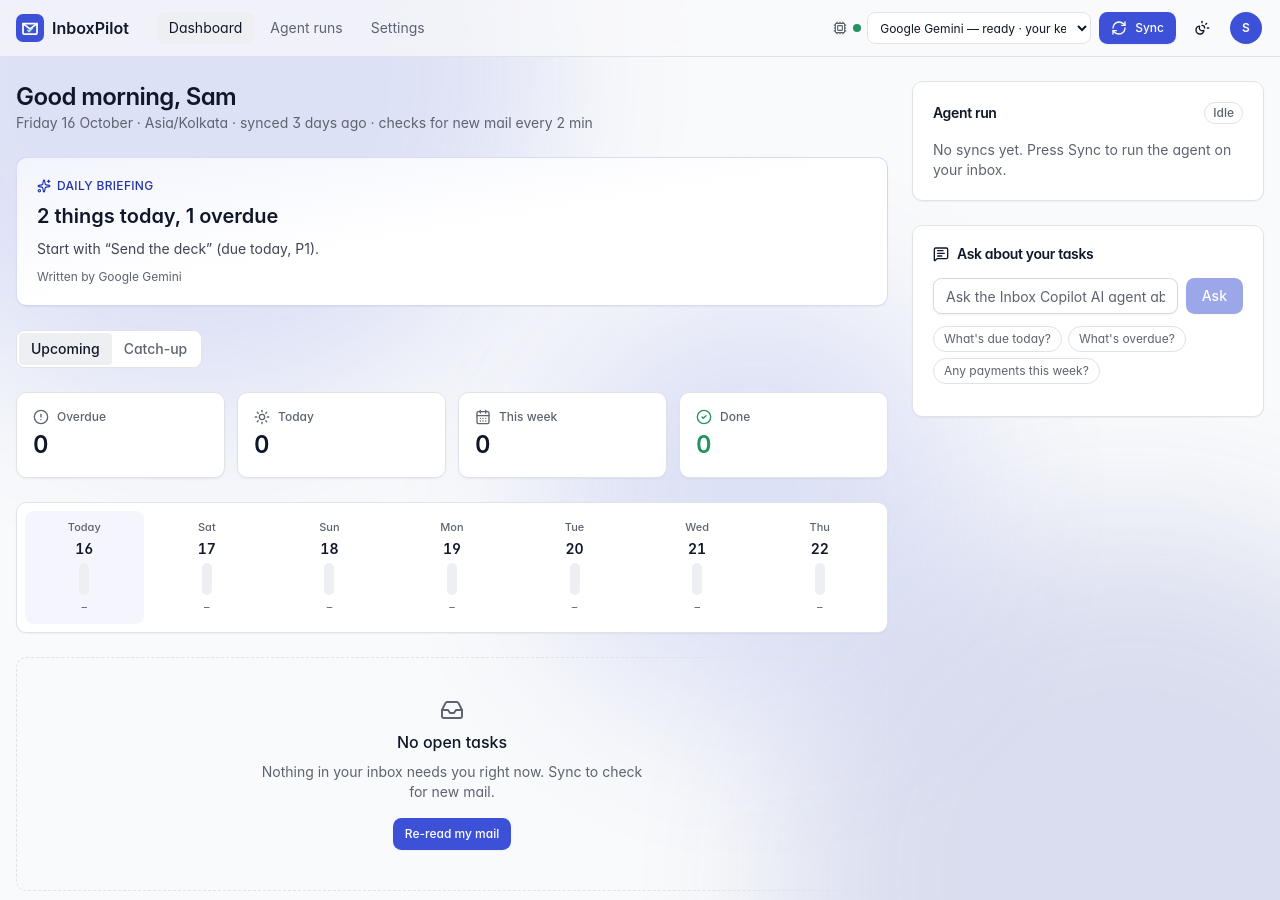
Test: daily briefing: written by the selected model › switching the model rewrites the briefing, and it keeps saying who wrote it
The width and height of the screenshot is (1280, 900).
expect the text "Written by Google Gemini" is shown: met, box 37,269 -> 182,284
Select "OpenRouter — ready · your key" in the dropdown named "AI model" at (979, 28), box 867,12 -> 1091,44
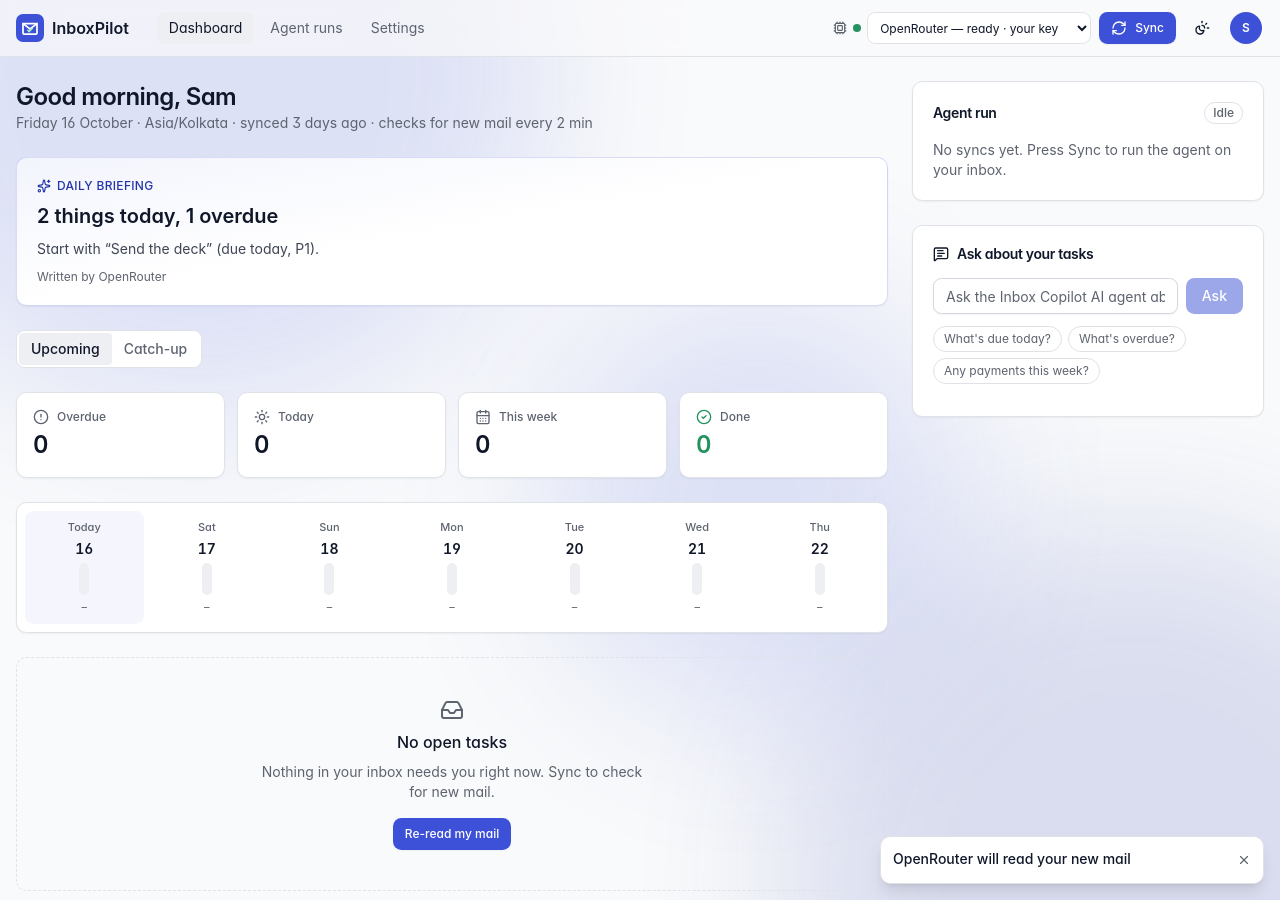
expect the text "Written by OpenRouter" is shown: met, box 37,269 -> 166,284
expect the text "Written by Google Gemini" is gone: met
Select "Rules only (no AI)" in the dropdown named "AI model" at (979, 28), box 867,12 -> 1091,44
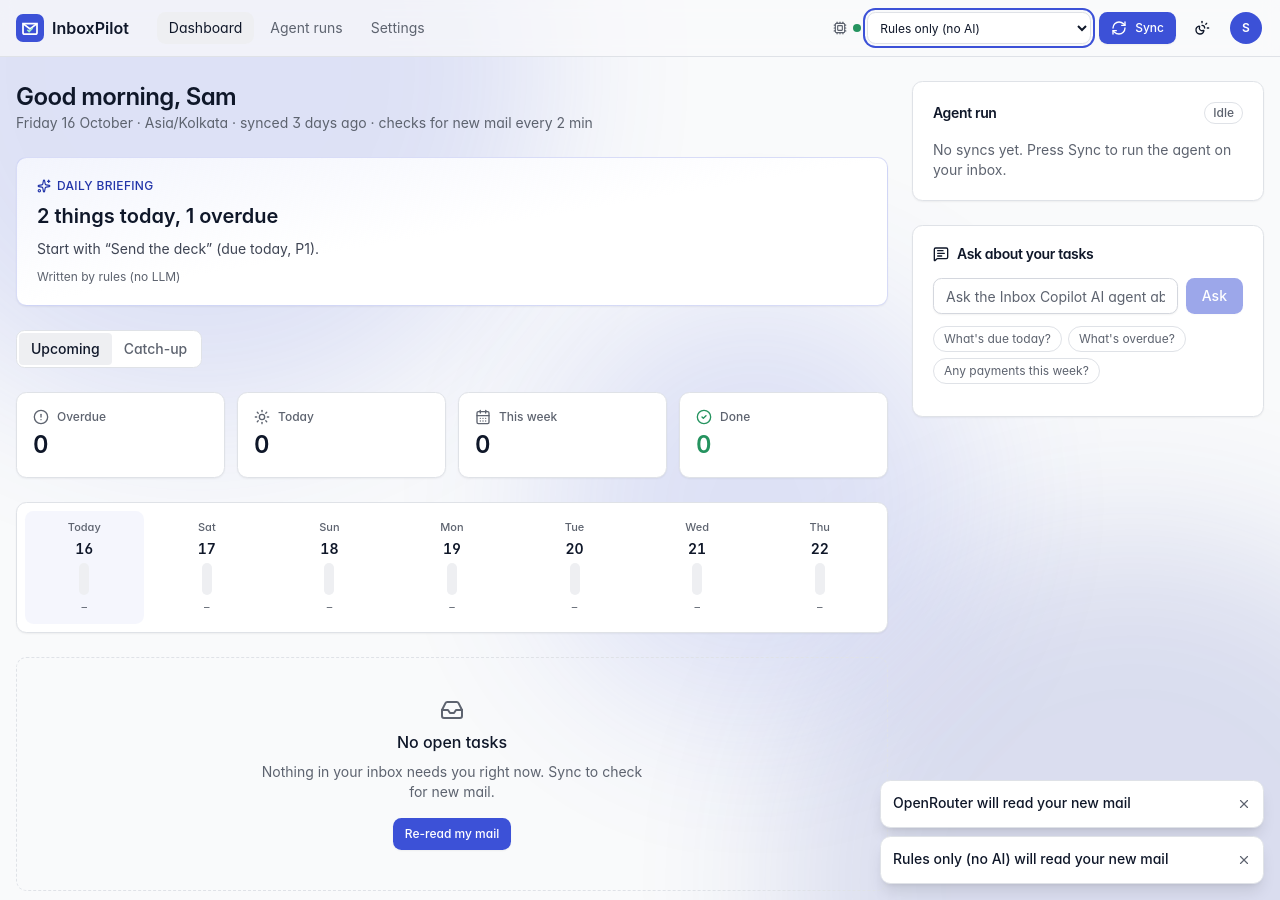
expect the text "Written by rules (no LLM)" is shown: met, box 37,269 -> 180,284
